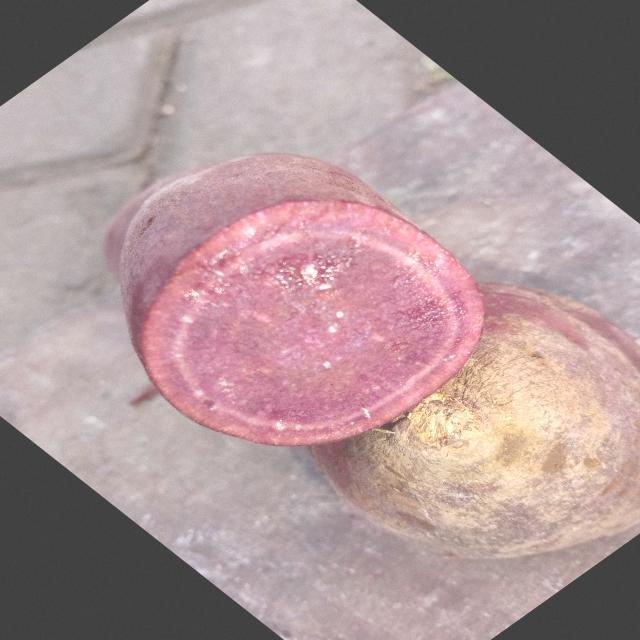Healthy Sweet Potato: (138, 200, 483, 446)
